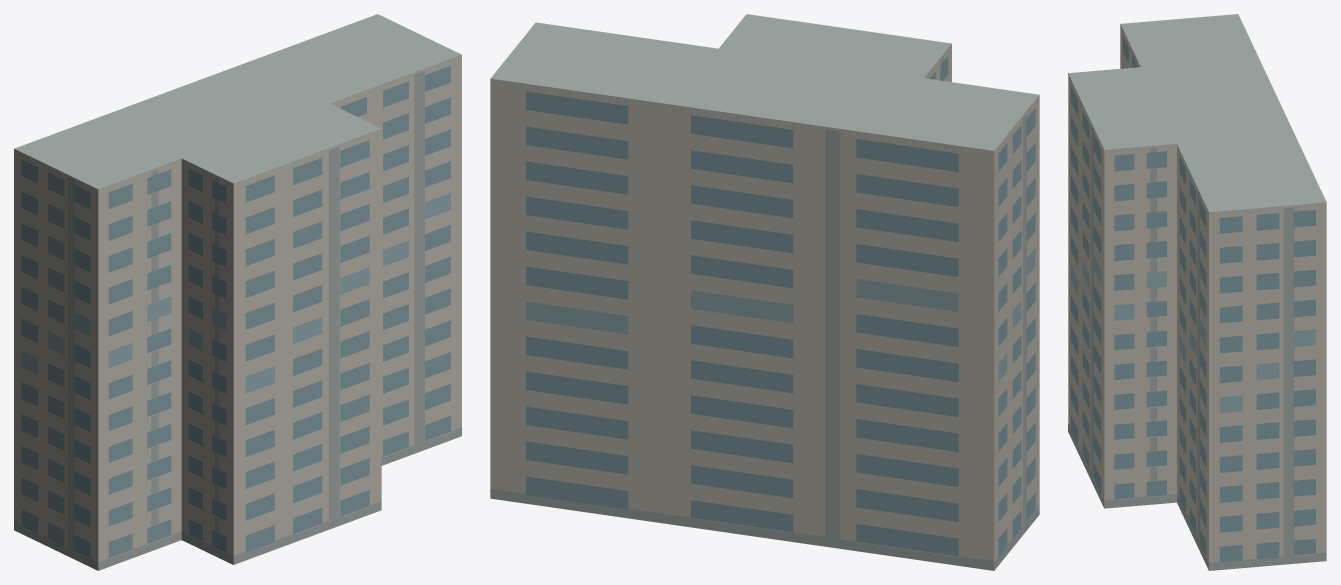
File: residential-c23a0917-0de9-4d5e-9bf9-21ff5398889f.glb
3 renders of one model, left to right at view 1: azimuth 30°, elevation 25°; view 2: azimuth 150°, elevation 25°; view 3: azimuth 270°, elevation 25°, orthographic. The views are drawn at different scales.
Visible parts, largest first — view 1: residential-c23a0917-0de9-4d5e-9bf9-21ff5398889f.tmp; view 2: residential-c23a0917-0de9-4d5e-9bf9-21ff5398889f.tmp; view 3: residential-c23a0917-0de9-4d5e-9bf9-21ff5398889f.tmp.
Part boxes in pixels (x1,y1,x2,y2): residential-c23a0917-0de9-4d5e-9bf9-21ff5398889f.tmp: (14, 14, 461, 570); residential-c23a0917-0de9-4d5e-9bf9-21ff5398889f.tmp: (490, 14, 1039, 570); residential-c23a0917-0de9-4d5e-9bf9-21ff5398889f.tmp: (1068, 14, 1326, 570).
Size of the model in its own units: 43.39 by 36.6 by 23.92.
